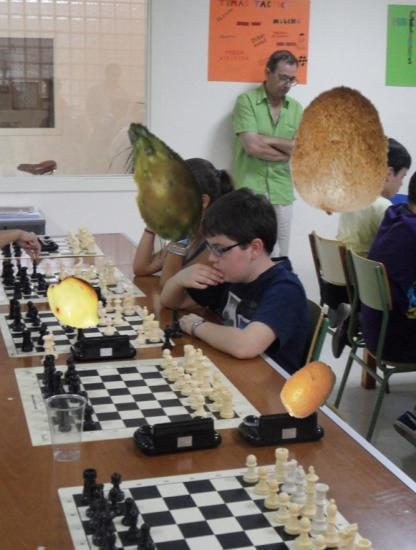Cactus: (100, 115, 228, 243)
Kiwi: (274, 85, 404, 215)
Kumquats: (277, 358, 341, 422)
Quince: (44, 273, 106, 335)
